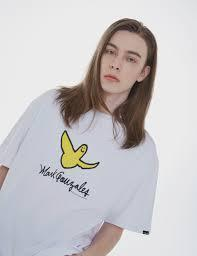Tshirt: (1, 86, 160, 256)
